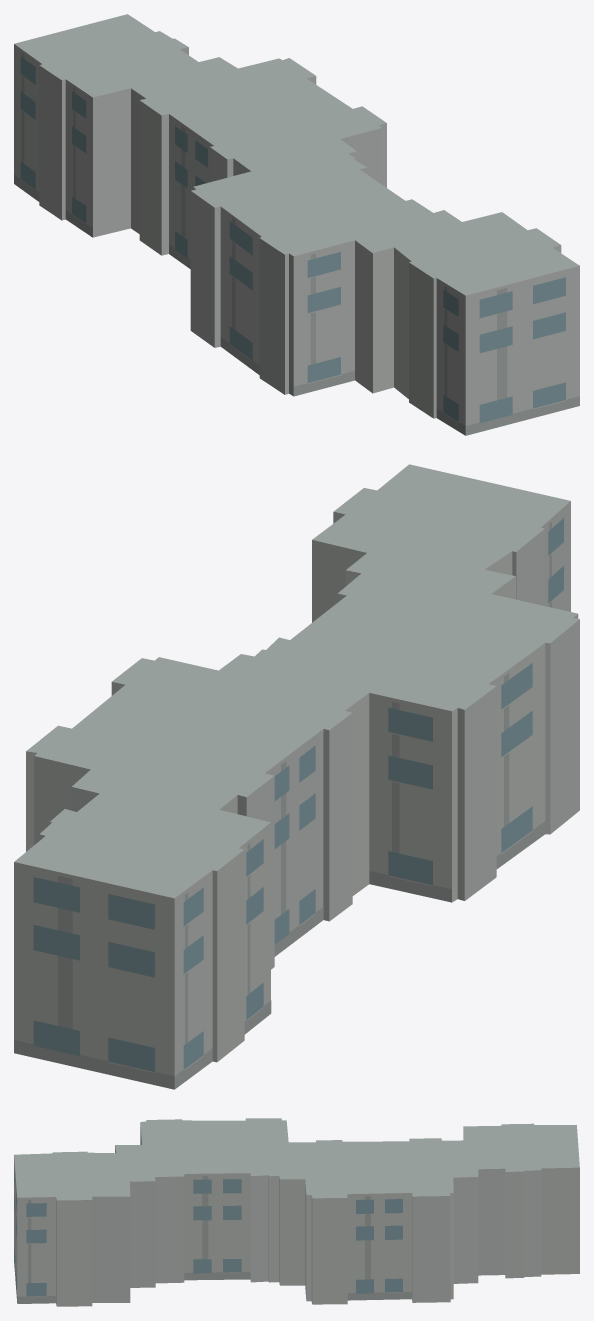
File: survey-upis-32558181.glb
3 views of the same model, one above another, from view 1: azimuth 30°, elevation 25°; view 2: azimuth 150°, elevation 25°; view 3: azimuth 270°, elevation 25° (orthographic). The views are drawn at different scales.
Visible parts, largest first — view 1: survey-upis-32558181.tmp; view 2: survey-upis-32558181.tmp; view 3: survey-upis-32558181.tmp.
Boxes of the visible parts, box(x1,y1,x2,y2) form: survey-upis-32558181.tmp: box(14, 14, 579, 435); survey-upis-32558181.tmp: box(14, 464, 579, 1089); survey-upis-32558181.tmp: box(14, 1118, 579, 1306).
Size of the model in its own units: 20.24 by 12.2 by 58.88.
